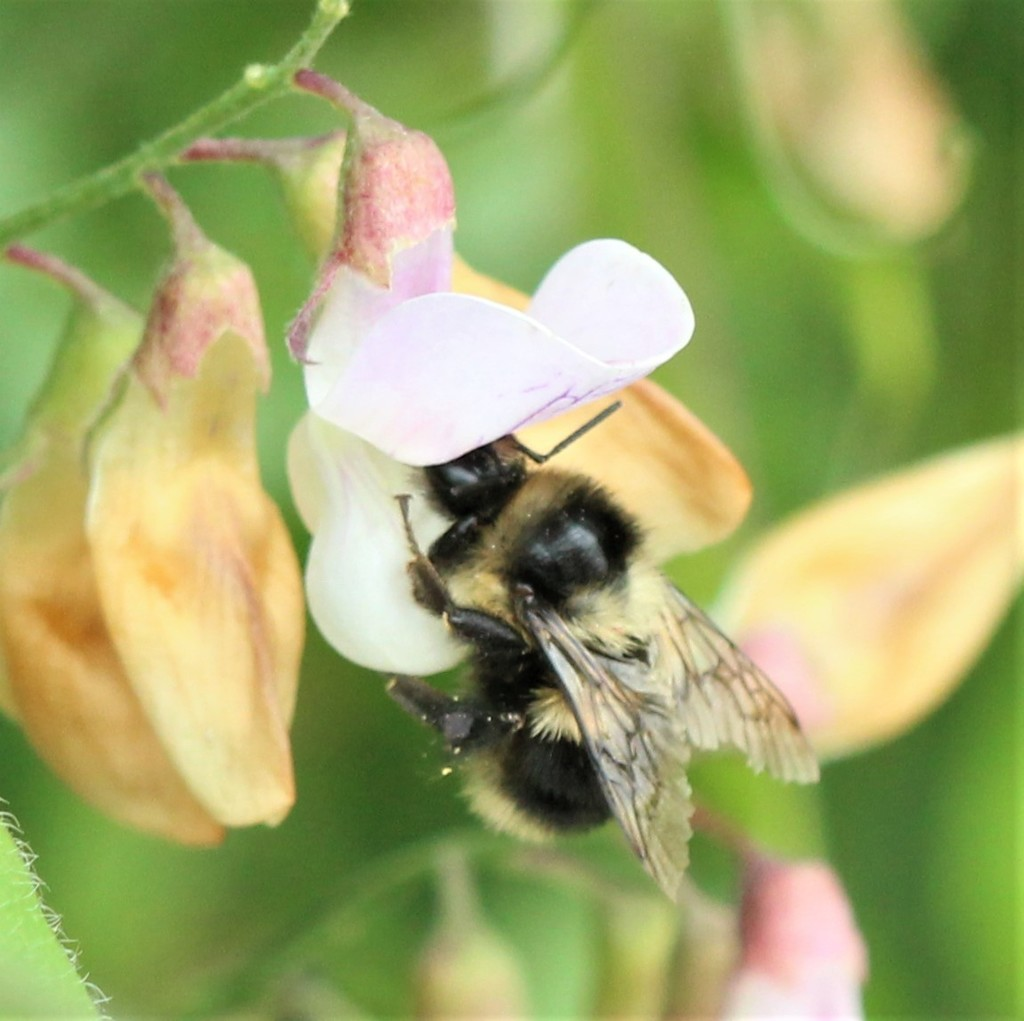bumblebee: (385, 401, 826, 905)
